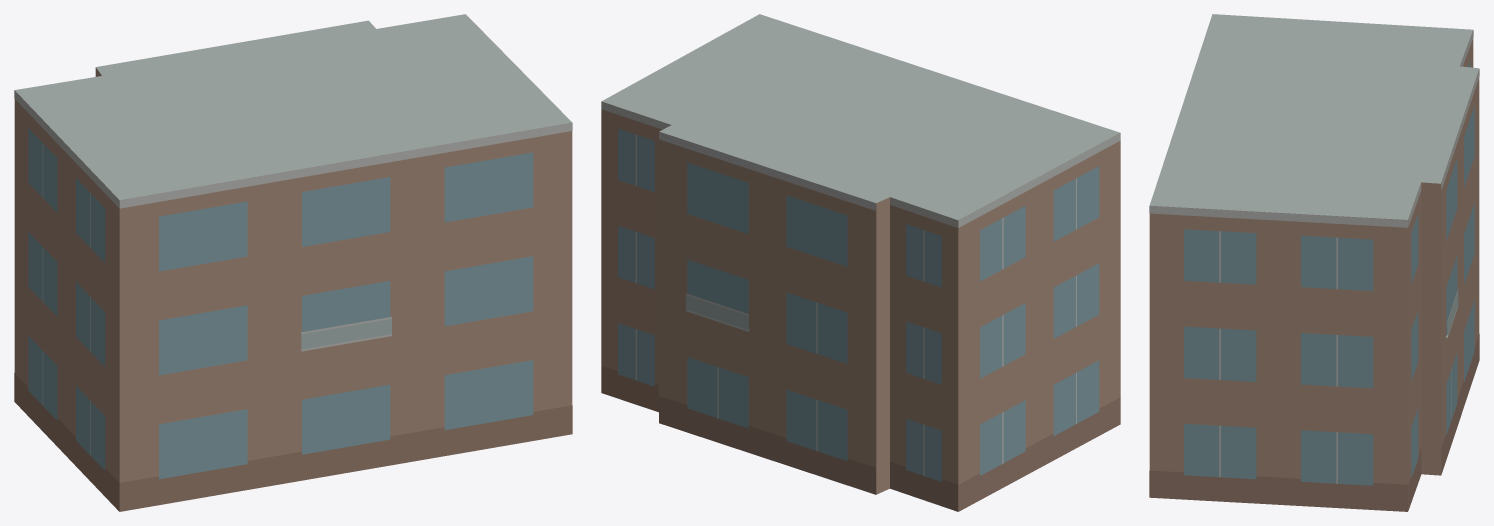
File: survey-upis-32701204.glb
3 views of the same model, side by side, from view 1: azimuth 30°, elevation 25°; view 2: azimuth 150°, elevation 25°; view 3: azimuth 270°, elevation 25° (orthographic). The views are drawn at different scales.
Visible parts, largest first — view 1: survey-upis-32701204.tmp; view 2: survey-upis-32701204.tmp; view 3: survey-upis-32701204.tmp.
Boxes of the visible parts, x1,y1,x2,y2 form: survey-upis-32701204.tmp: [14, 14, 572, 511]; survey-upis-32701204.tmp: [601, 14, 1120, 511]; survey-upis-32701204.tmp: [1149, 14, 1479, 511].
Bounding box in the file's own units: 13.86 × 9.15 × 9.39.
